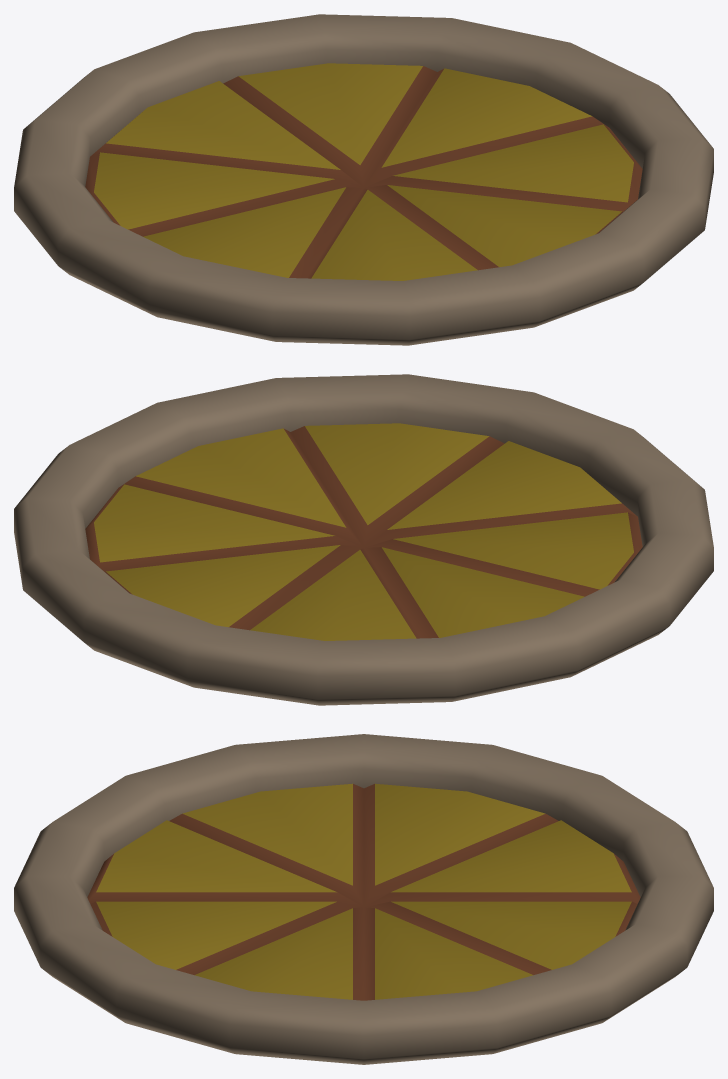
Rendered from PS_PizzaPie01.fbx.
The picture shows the model from 3 angles, top to bottom: view 1: azimuth 30°, elevation 25°; view 2: azimuth 150°, elevation 25°; view 3: azimuth 270°, elevation 25°; orthographic projection.
Parts seen in each view (by area): view 1: PS_PizzaPie01; view 2: PS_PizzaPie01; view 3: PS_PizzaPie01.
Boxes of the visible parts, x1,y1,x2,y2 form: PS_PizzaPie01: [14, 14, 713, 345]; PS_PizzaPie01: [14, 374, 713, 705]; PS_PizzaPie01: [14, 734, 713, 1064].
Bounding box in the file's own units: 0.6429 × 0.0467 × 0.6429.
